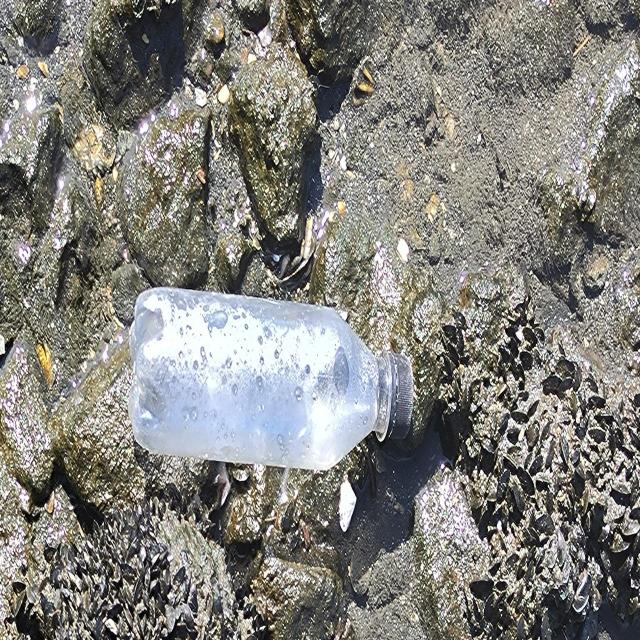plastic_waste: (128, 285, 415, 476)
